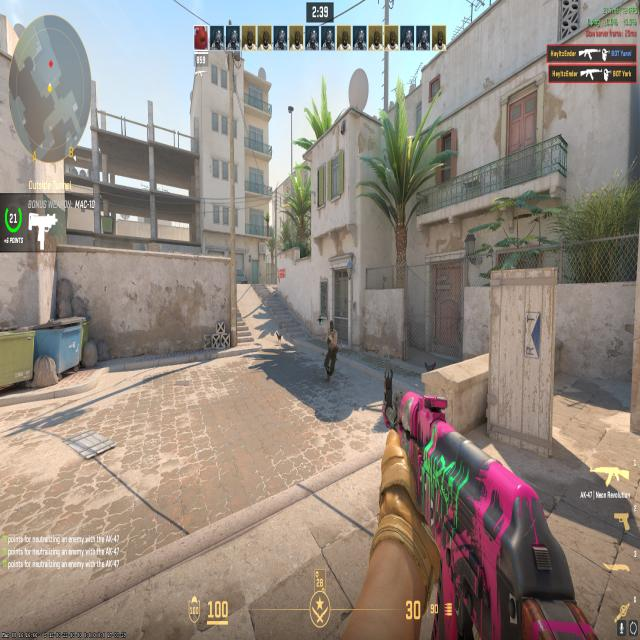t: (320, 314, 342, 382)
